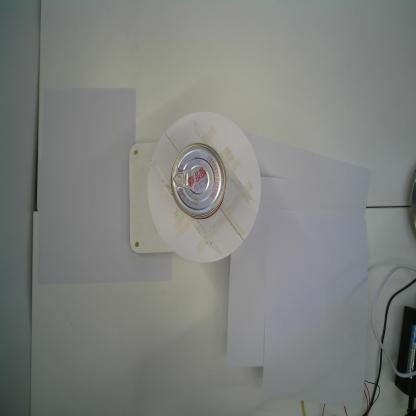Canned Food: (170, 142, 226, 220)
